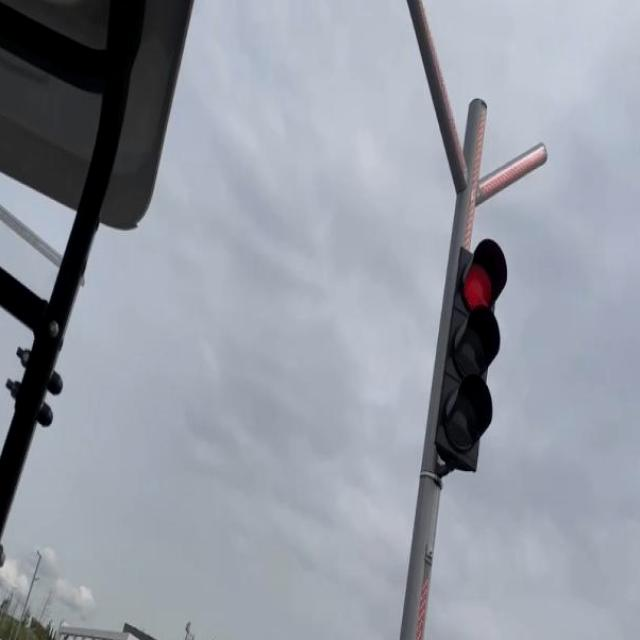kirmizi: (434, 240, 507, 479)
